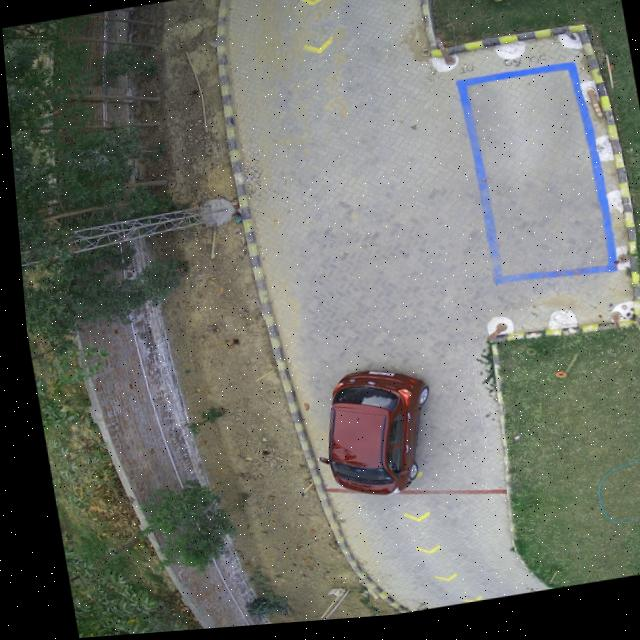car: (313, 374, 421, 500)
